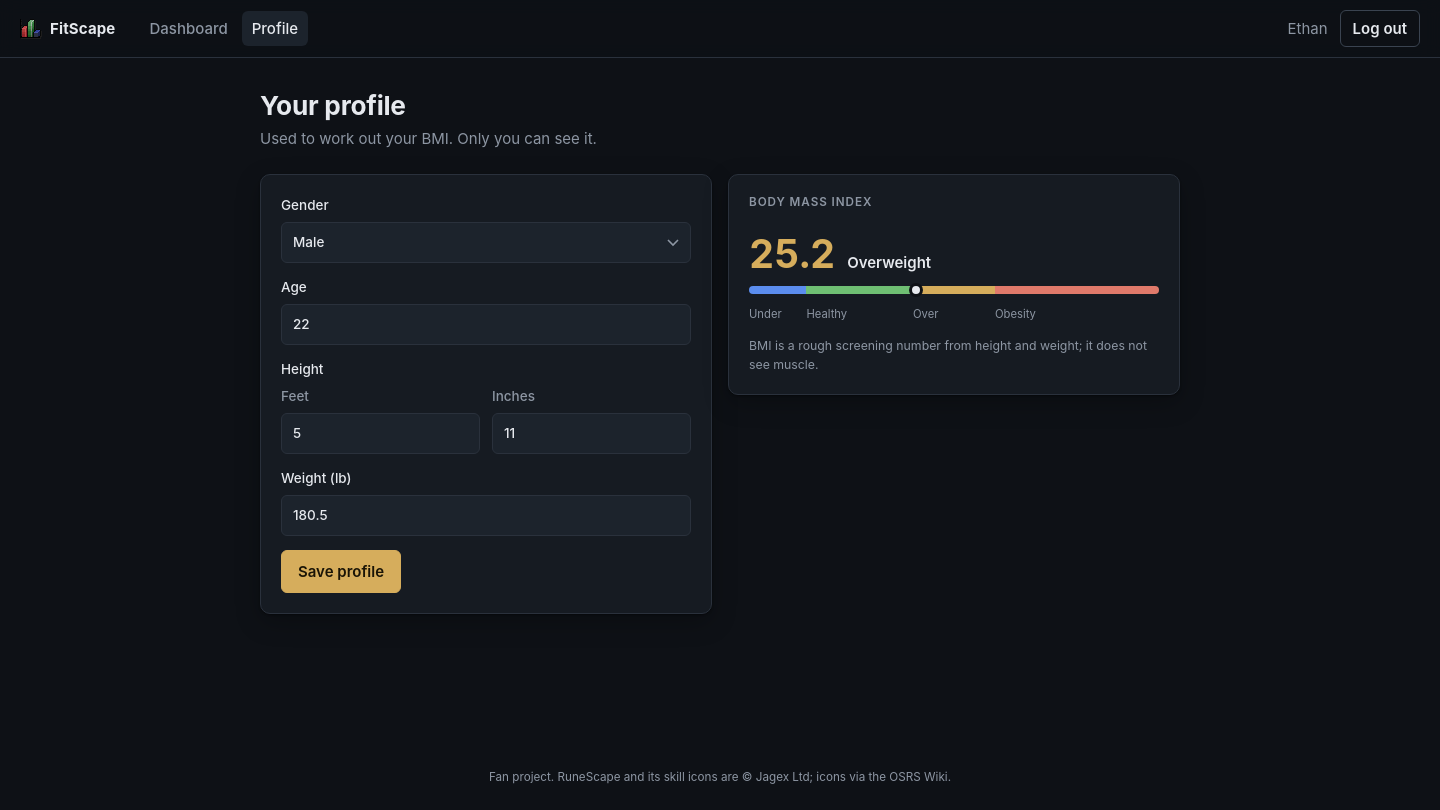
Test: Profile › explains out-of-range values
The width and height of the screenshot is (1440, 810).
Click the button "Save profile": (341, 571) [281,550,401,593]
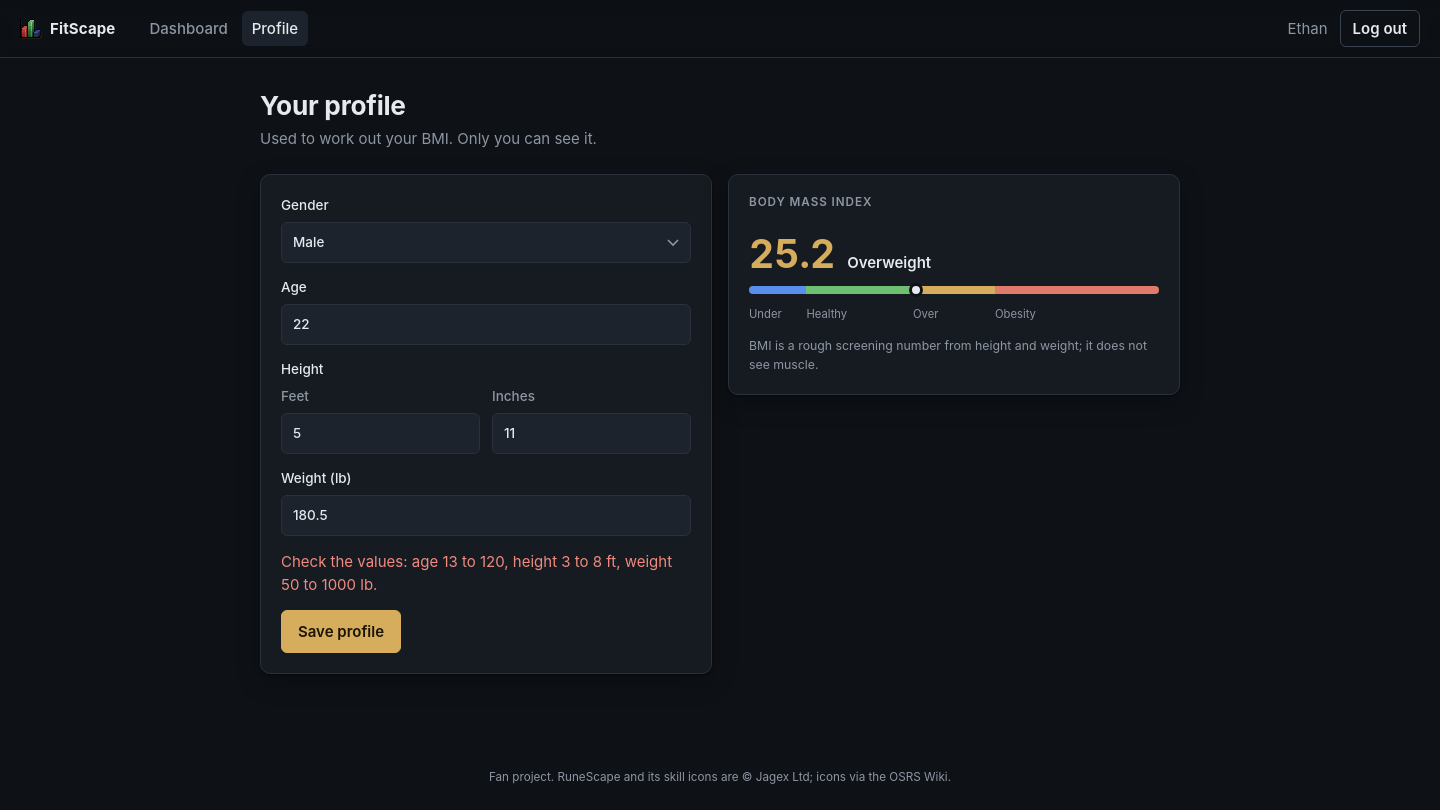
Now the message shows "Check the values", box [281,552,672,594]
